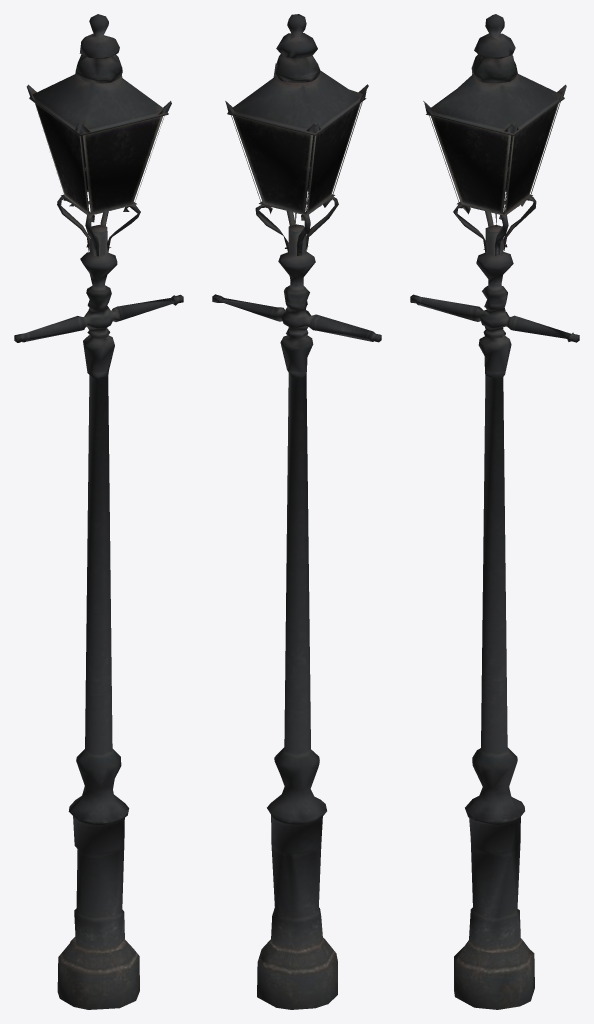
File: street_lamp_01.glb
3 renders of one model, left to right at view 1: azimuth 30°, elevation 25°; view 2: azimuth 150°, elevation 25°; view 3: azimuth 330°, elevation 25°, orthographic.
Parts seen in each view (by area): view 1: street_lamp_01; view 2: street_lamp_01; view 3: street_lamp_01.
Boxes of the visible parts, bbox=[...] form: street_lamp_01: bbox=[14, 14, 183, 1009]; street_lamp_01: bbox=[212, 14, 381, 1009]; street_lamp_01: bbox=[410, 14, 579, 1009].
Bounding box in the file's own units: 0.6893 × 3.87 × 0.386.
2 materials, 2 textured.
